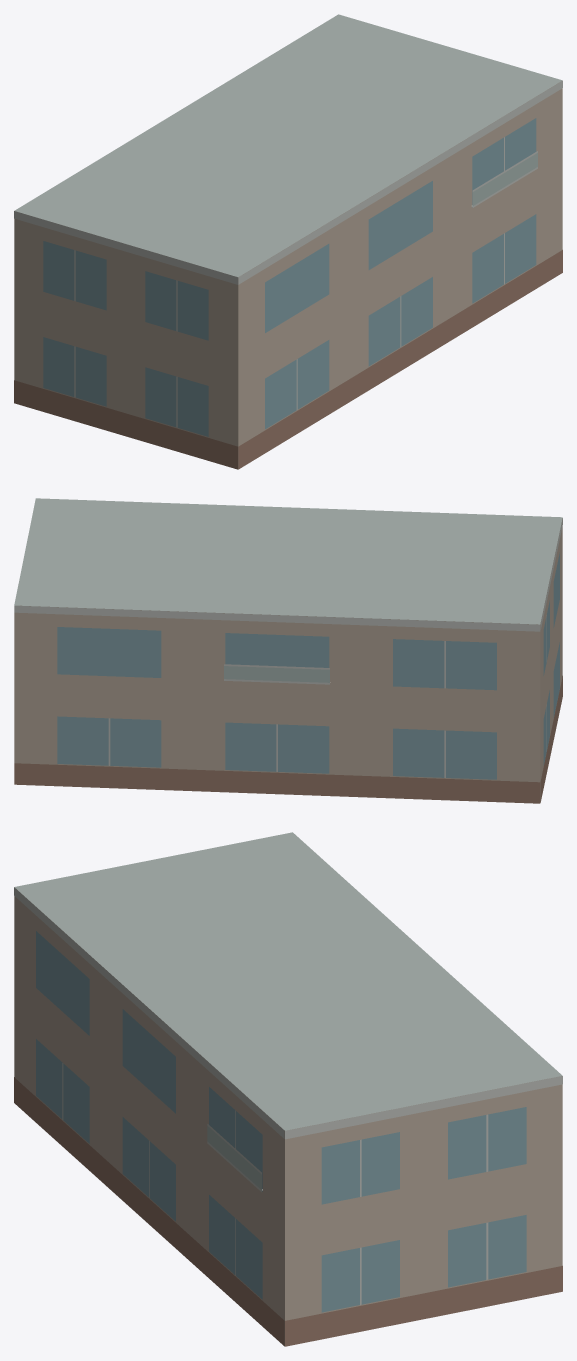
The model's file is survey-upis-32704798.glb.
3 views of the same model, one above another, from view 1: azimuth 30°, elevation 25°; view 2: azimuth 150°, elevation 25°; view 3: azimuth 270°, elevation 25° (orthographic). The views are drawn at different scales.
Parts seen in each view (by area): view 1: survey-upis-32704798.tmp; view 2: survey-upis-32704798.tmp; view 3: survey-upis-32704798.tmp.
Part boxes in pixels (bbox=[...]): survey-upis-32704798.tmp: bbox=[14, 14, 562, 469]; survey-upis-32704798.tmp: bbox=[14, 498, 562, 803]; survey-upis-32704798.tmp: bbox=[14, 832, 562, 1346].
Size of the model in its own units: 18.11 by 6.1 by 14.06.
